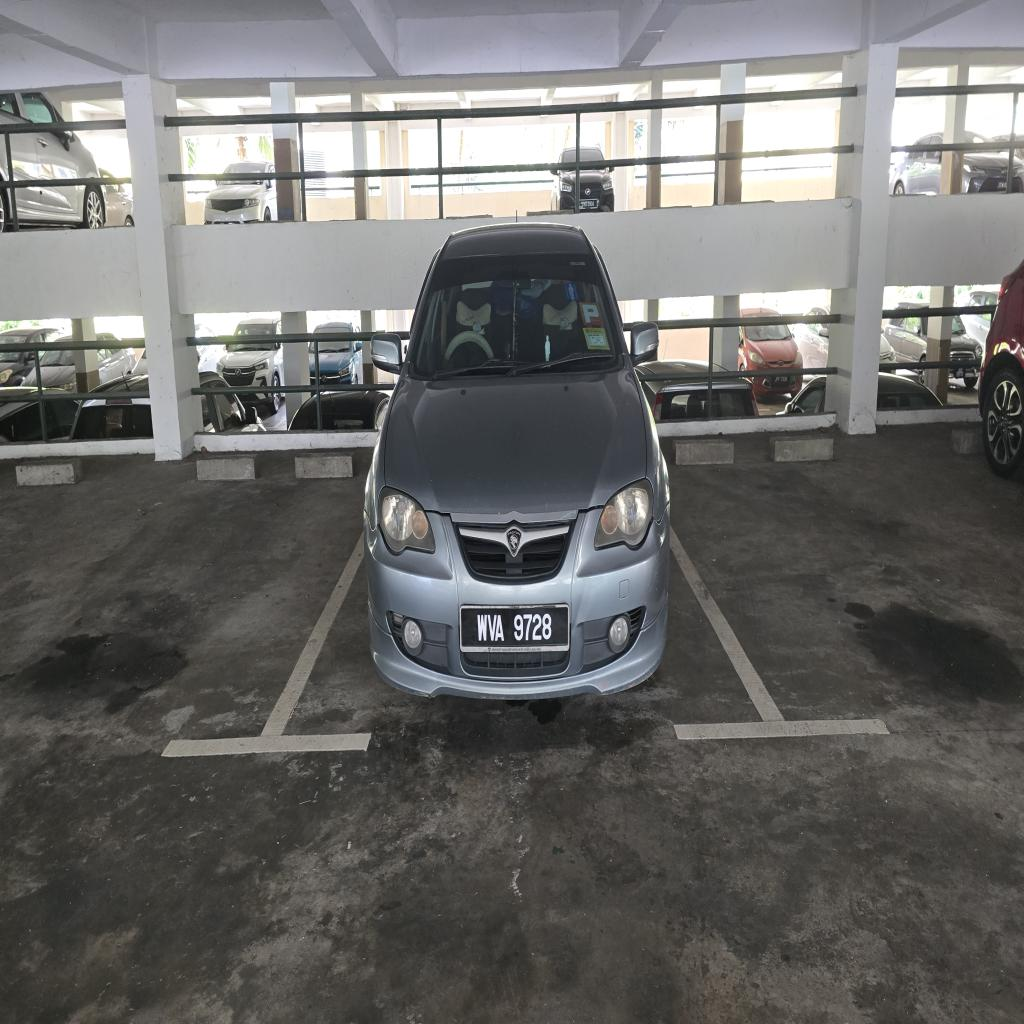car: (366, 225, 669, 697)
car plate: (460, 604, 569, 652)
